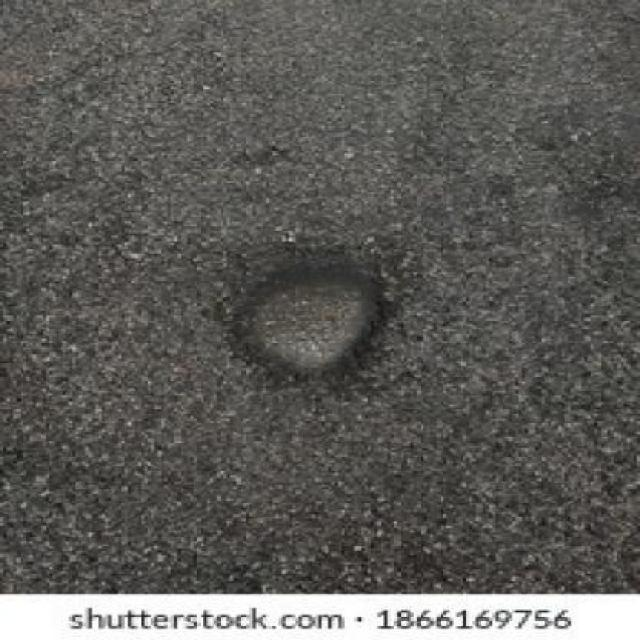Pothole: (220, 252, 397, 372)
